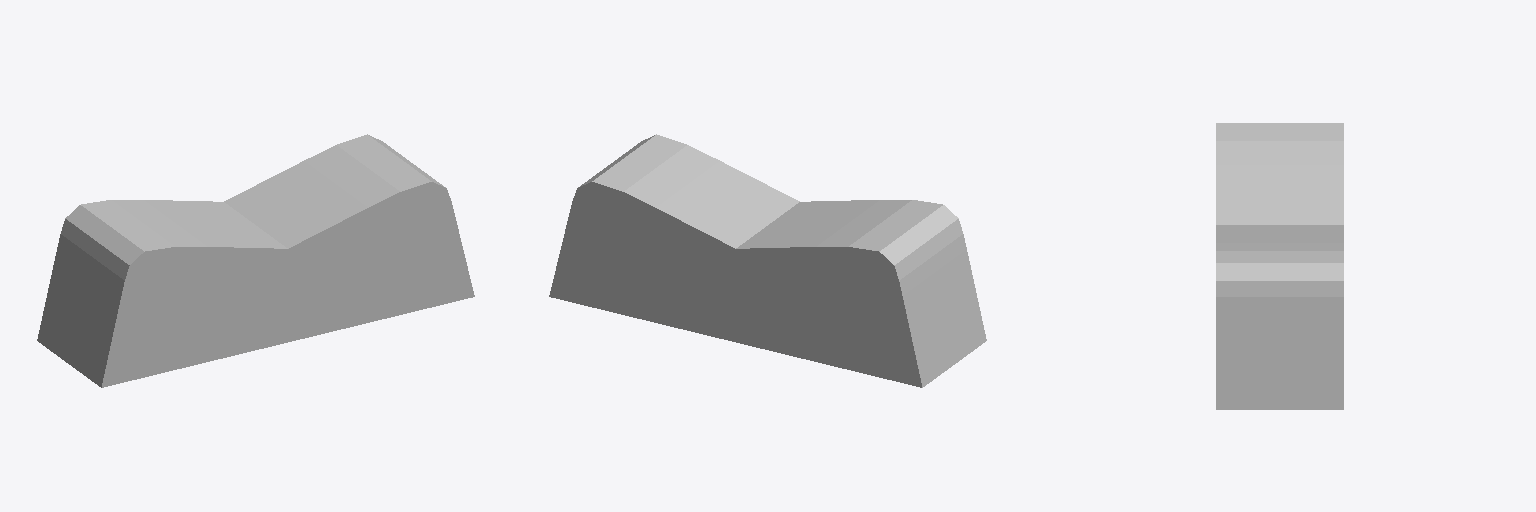
Rendered from switchToggle.obj.
3 views of the same model, side by side, from view 1: azimuth 30°, elevation 25°; view 2: azimuth 150°, elevation 25°; view 3: azimuth 270°, elevation 25° (orthographic).
Visible parts, largest first — view 1: Cube.001; view 2: Cube.001; view 3: Cube.001.
Boxes of the visible parts, <box> form: Cube.001: <box>37,134,474,387</box>; Cube.001: <box>549,134,986,387</box>; Cube.001: <box>1216,123,1343,409</box>.
Bounding box in the file's own units: 0.168 × 0.0541 × 0.0501.